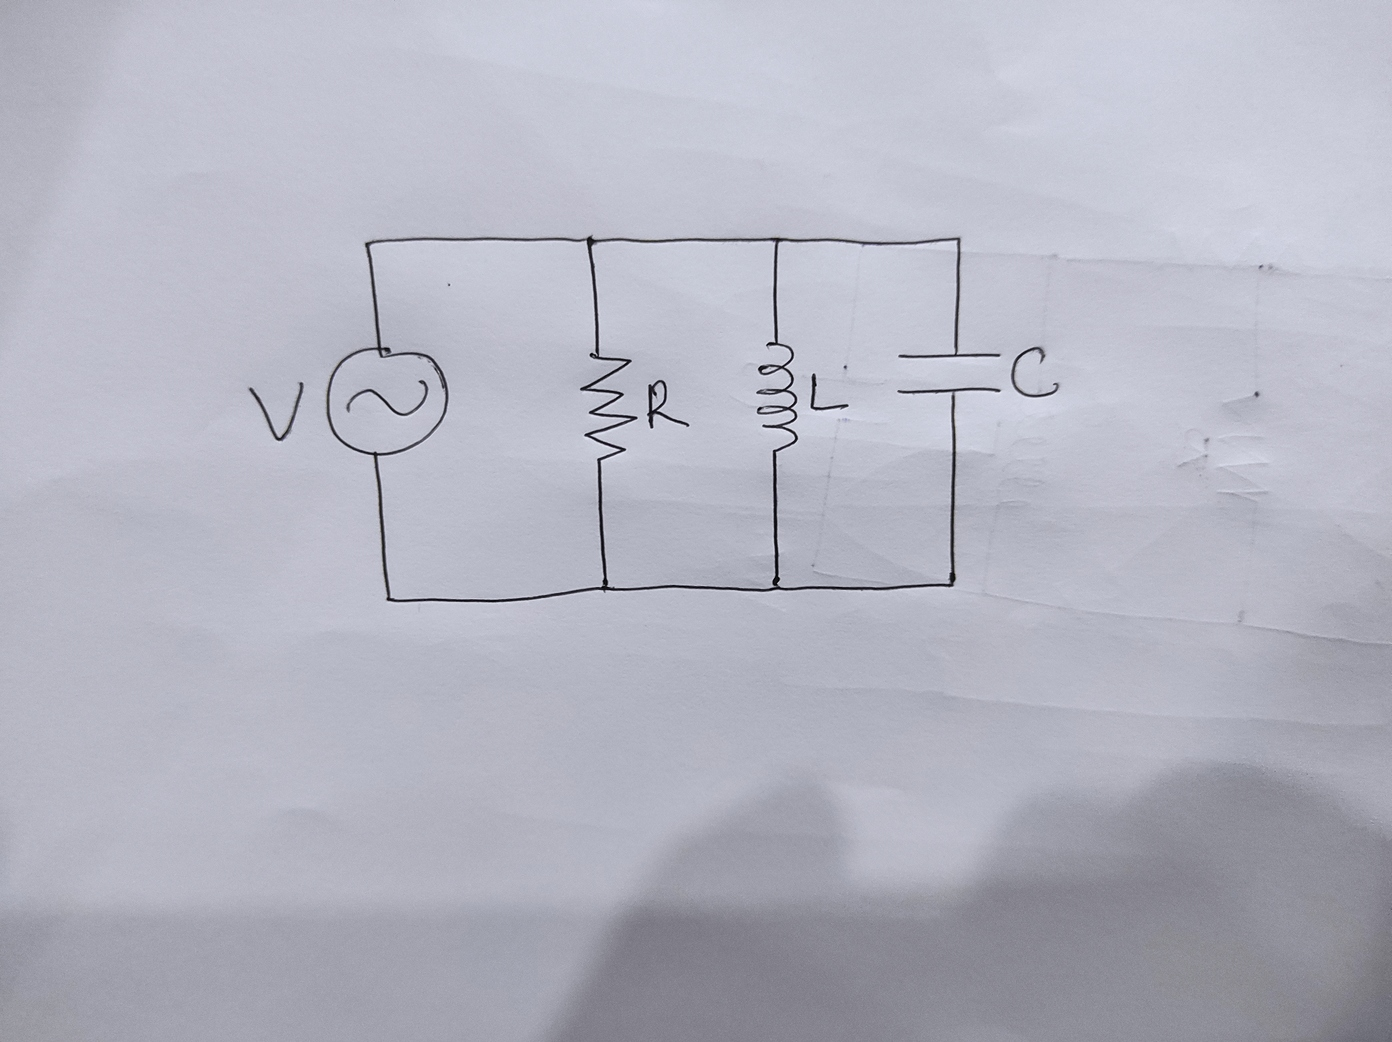capacitor.unpolarized: (894, 350, 1005, 400)
inductor: (755, 337, 799, 458)
junction: (759, 570, 788, 598), (580, 229, 601, 254), (942, 572, 961, 593), (769, 231, 788, 250), (595, 578, 615, 595), (359, 235, 378, 252), (380, 591, 399, 606), (949, 232, 965, 248)
resistor: (577, 349, 641, 463)
text: (248, 380, 309, 444), (1008, 343, 1062, 400), (643, 378, 692, 431), (808, 369, 851, 412)
voltage.dc_ac: (317, 344, 450, 458)
